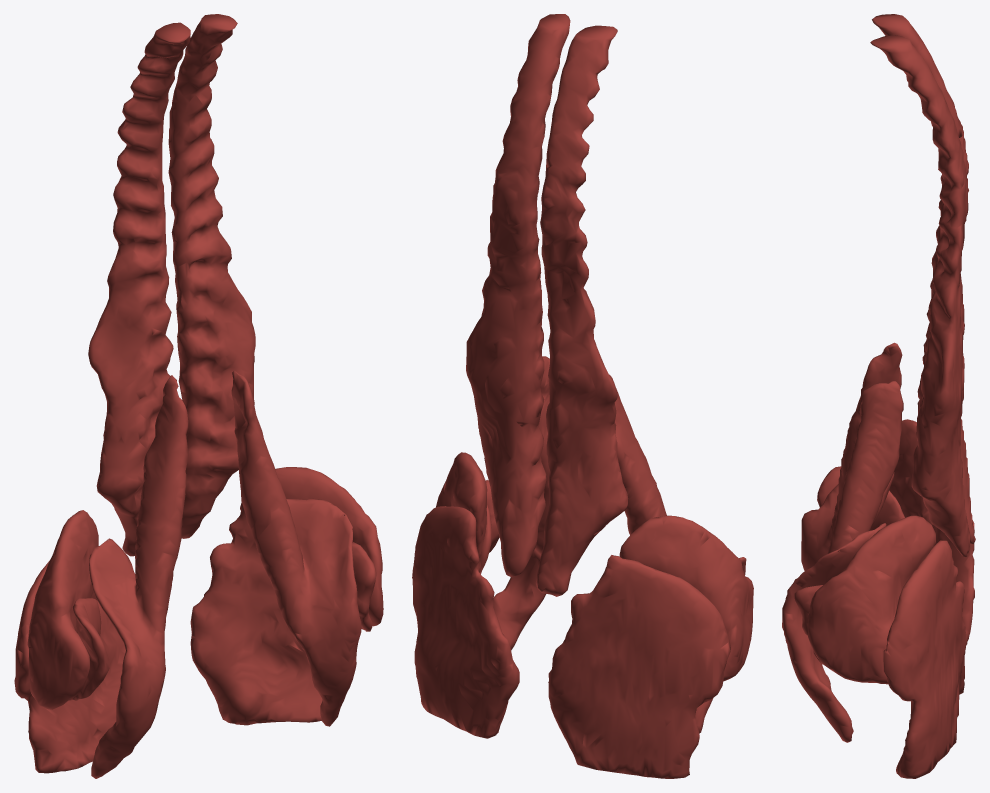
The model's file is tsd_s0327_older_adult_male.muscular.LOD3.glb.
3 views of the same model, side by side, from view 1: azimuth 30°, elevation 25°; view 2: azimuth 150°, elevation 25°; view 3: azimuth 270°, elevation 25° (orthographic). The views are drawn at different scales.
Visible parts, largest first — view 1: TSD_S0327.OLDER_ADULT.MALE.MUSCULAR.ERECTOR_SPINAE_AUTOCHTHO (×2), TSD_S0327.OLDER_ADULT.MALE.MUSCULAR.ILIOPSOAS.L, TSD_S0327.OLDER_ADULT.MALE.MUSCULAR.ILIOPSOAS.R, TSD_S0327.OLDER_ADULT.MALE.MUSCULAR.GLUTEUS_MAXIMUS.L, TSD_S0327.OLDER_ADULT.MALE.MUSCULAR.GLUTEUS_MEDIUS.R, TSD_S0327.OLDER_ADULT.MALE.MUSCULAR.GLUTEUS_MAXIMUS.R, TSD_S0327.OLDER_ADULT.MALE.MUSCULAR.GLUTEUS_MEDIUS.L, TSD_S0327.OLDER_ADULT.MALE.MUSCULAR.GLUTEUS_MINIMUS.R, TSD_S0327.OLDER_ADULT.MALE.MUSCULAR.GLUTEUS_MINIMUS.L; view 2: TSD_S0327.OLDER_ADULT.MALE.MUSCULAR.ERECTOR_SPINAE_AUTOCHTHO (×2), TSD_S0327.OLDER_ADULT.MALE.MUSCULAR.GLUTEUS_MAXIMUS.R, TSD_S0327.OLDER_ADULT.MALE.MUSCULAR.GLUTEUS_MAXIMUS.L, TSD_S0327.OLDER_ADULT.MALE.MUSCULAR.GLUTEUS_MEDIUS.R, TSD_S0327.OLDER_ADULT.MALE.MUSCULAR.ILIOPSOAS.L, TSD_S0327.OLDER_ADULT.MALE.MUSCULAR.ILIOPSOAS.R, TSD_S0327.OLDER_ADULT.MALE.MUSCULAR.GLUTEUS_MEDIUS.L, TSD_S0327.OLDER_ADULT.MALE.MUSCULAR.GLUTEUS_MINIMUS.L; view 3: TSD_S0327.OLDER_ADULT.MALE.MUSCULAR.ERECTOR_SPINAE_AUTOCHTHO (×2), TSD_S0327.OLDER_ADULT.MALE.MUSCULAR.GLUTEUS_MAXIMUS.L, TSD_S0327.OLDER_ADULT.MALE.MUSCULAR.ILIOPSOAS.L, TSD_S0327.OLDER_ADULT.MALE.MUSCULAR.GLUTEUS_MEDIUS.L, TSD_S0327.OLDER_ADULT.MALE.MUSCULAR.ILIOPSOAS.R, TSD_S0327.OLDER_ADULT.MALE.MUSCULAR.GLUTEUS_MEDIUS.R, TSD_S0327.OLDER_ADULT.MALE.MUSCULAR.GLUTEUS_MAXIMUS.R, TSD_S0327.OLDER_ADULT.MALE.MUSCULAR.GLUTEUS_MINIMUS.R, TSD_S0327.OLDER_ADULT.MALE.MUSCULAR.GLUTEUS_MINIMUS.L.
Part boxes in pixels (box(x1,y1,x2,y2)): TSD_S0327.OLDER_ADULT.MALE.MUSCULAR.ERECTOR_SPINAE_AUTOCHTHO (×2): box(88, 14, 255, 556); TSD_S0327.OLDER_ADULT.MALE.MUSCULAR.ILIOPSOAS.L: box(231, 370, 361, 726); TSD_S0327.OLDER_ADULT.MALE.MUSCULAR.ILIOPSOAS.R: box(89, 375, 188, 778); TSD_S0327.OLDER_ADULT.MALE.MUSCULAR.GLUTEUS_MAXIMUS.L: box(190, 502, 322, 725); TSD_S0327.OLDER_ADULT.MALE.MUSCULAR.GLUTEUS_MEDIUS.R: box(27, 510, 98, 709); TSD_S0327.OLDER_ADULT.MALE.MUSCULAR.GLUTEUS_MAXIMUS.R: box(14, 560, 125, 773); TSD_S0327.OLDER_ADULT.MALE.MUSCULAR.GLUTEUS_MEDIUS.L: box(275, 467, 383, 626); TSD_S0327.OLDER_ADULT.MALE.MUSCULAR.GLUTEUS_MINIMUS.R: box(69, 598, 109, 700); TSD_S0327.OLDER_ADULT.MALE.MUSCULAR.GLUTEUS_MINIMUS.L: box(352, 542, 376, 631); TSD_S0327.OLDER_ADULT.MALE.MUSCULAR.ERECTOR_SPINAE_AUTOCHTHO (×2): box(466, 14, 628, 596); TSD_S0327.OLDER_ADULT.MALE.MUSCULAR.GLUTEUS_MAXIMUS.R: box(548, 555, 730, 778); TSD_S0327.OLDER_ADULT.MALE.MUSCULAR.GLUTEUS_MAXIMUS.L: box(412, 506, 519, 738); TSD_S0327.OLDER_ADULT.MALE.MUSCULAR.GLUTEUS_MEDIUS.R: box(619, 515, 753, 681); TSD_S0327.OLDER_ADULT.MALE.MUSCULAR.ILIOPSOAS.L: box(484, 356, 549, 650); TSD_S0327.OLDER_ADULT.MALE.MUSCULAR.ILIOPSOAS.R: box(609, 374, 713, 733); TSD_S0327.OLDER_ADULT.MALE.MUSCULAR.GLUTEUS_MEDIUS.L: box(436, 452, 487, 572); TSD_S0327.OLDER_ADULT.MALE.MUSCULAR.GLUTEUS_MINIMUS.L: box(480, 480, 499, 573); TSD_S0327.OLDER_ADULT.MALE.MUSCULAR.ERECTOR_SPINAE_AUTOCHTHO (×2): box(870, 14, 975, 557); TSD_S0327.OLDER_ADULT.MALE.MUSCULAR.GLUTEUS_MAXIMUS.L: box(883, 540, 967, 778); TSD_S0327.OLDER_ADULT.MALE.MUSCULAR.ILIOPSOAS.L: box(782, 381, 903, 742); TSD_S0327.OLDER_ADULT.MALE.MUSCULAR.GLUTEUS_MEDIUS.L: box(808, 515, 935, 684); TSD_S0327.OLDER_ADULT.MALE.MUSCULAR.ILIOPSOAS.R: box(801, 342, 902, 570); TSD_S0327.OLDER_ADULT.MALE.MUSCULAR.GLUTEUS_MEDIUS.R: box(889, 419, 932, 526); TSD_S0327.OLDER_ADULT.MALE.MUSCULAR.GLUTEUS_MAXIMUS.R: box(932, 520, 974, 694); TSD_S0327.OLDER_ADULT.MALE.MUSCULAR.GLUTEUS_MINIMUS.R: box(817, 466, 904, 530); TSD_S0327.OLDER_ADULT.MALE.MUSCULAR.GLUTEUS_MINIMUS.L: box(794, 585, 822, 664).
Size of the model in its own units: 0.3078 by 0.6437 by 0.1662.
